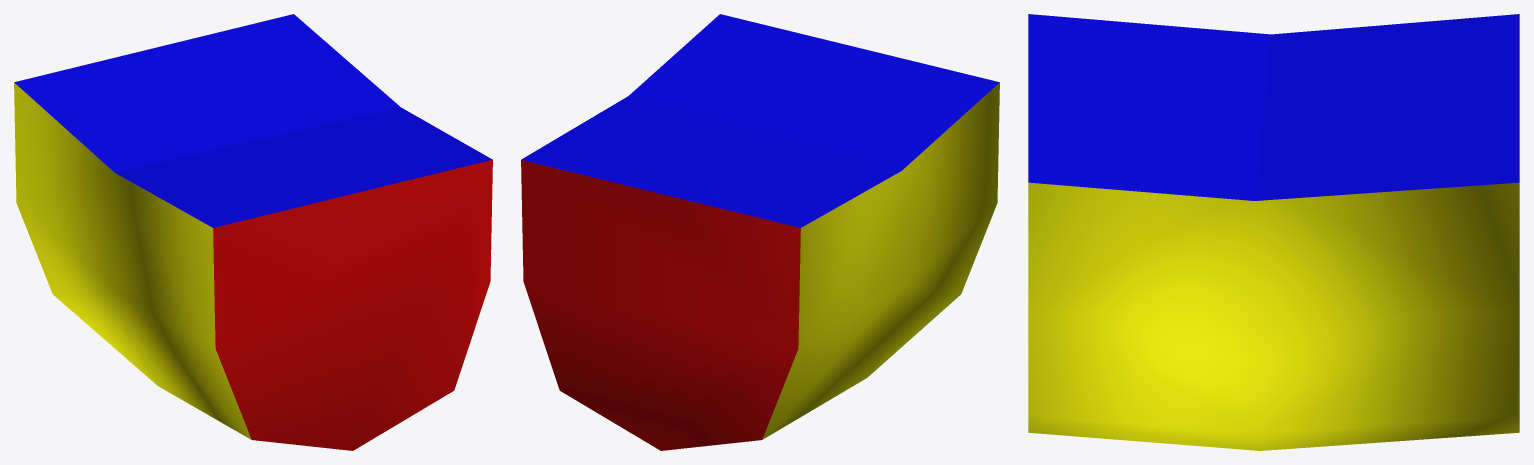
3 views of the same model, side by side, from view 1: azimuth 30°, elevation 25°; view 2: azimuth 150°, elevation 25°; view 3: azimuth 270°, elevation 25° (orthographic). The views are drawn at different scales.
Parts seen in each view (by area): view 1: polySurface129; view 2: polySurface129; view 3: polySurface129.
Boxes of the visible parts, x1,y1,x2,y2 form: polySurface129: (14, 14, 492, 450); polySurface129: (521, 14, 999, 450); polySurface129: (1028, 14, 1519, 450).
Size of the model in its own units: 23.59 by 21.89 by 29.05.
